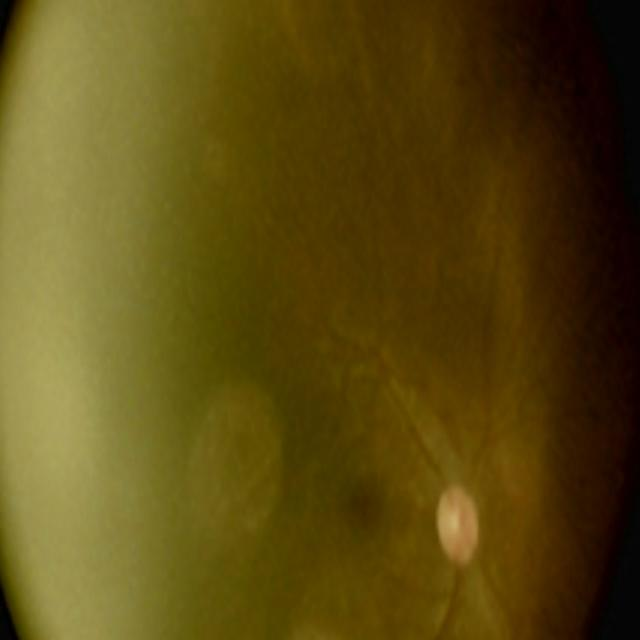optic-nerve: (417, 442, 500, 604)
